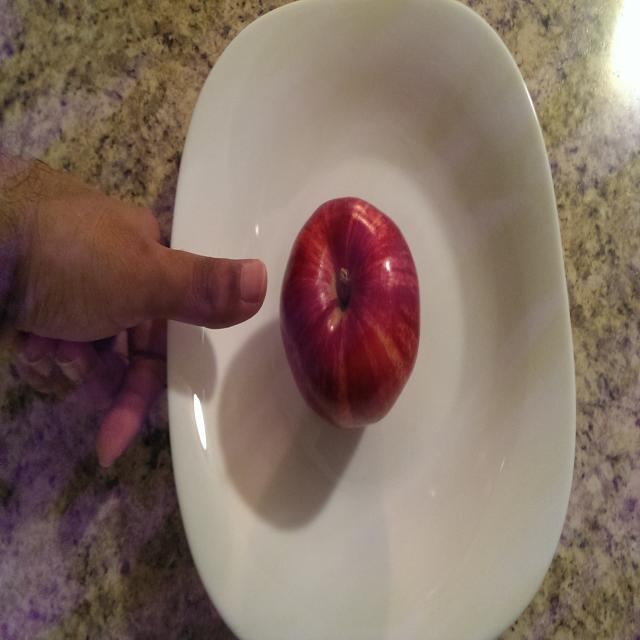apple: (275, 192, 435, 446)
